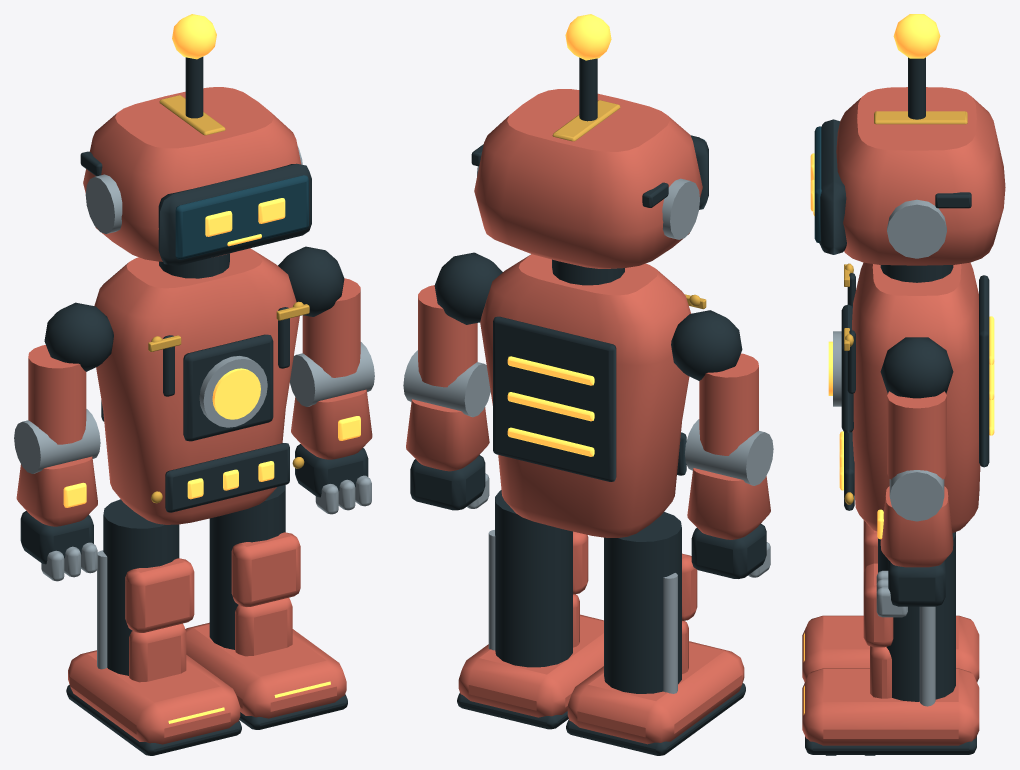
The model's file is rust_scout.glb.
3 views of the same model, side by side, from view 1: azimuth 30°, elevation 25°; view 2: azimuth 150°, elevation 25°; view 3: azimuth 270°, elevation 25° (orthographic). The views are drawn at different scales.
Visible parts, largest first — view 1: Torso.001, Antenna.001, Foot_-1.001, Foot_1.001, Forearm.002, BootSole.002, Forearm.003, BootSole.003, VisorGlass.001, AntennaLight.001, ElbowAxle.002, ElbowAxle.003 (+5 smaller); view 2: Torso.001, Antenna.001, BootSole.002, BootSole.003, Foot_-1.001, Forearm.002, Forearm.003, Foot_1.001, AntennaLight.001, ElbowAxle.002, ElbowAxle.003, PalmGrip.003 (+5 smaller); view 3: Torso.001, Antenna.001, Foot_1.001, Forearm.003, BootSole.003, Foot_-1.001, HelmetAxle.001, ElbowAxle.003, AntennaLight.001, PalmGrip.003, LegPiston.003, ChestID.001 (+1 smaller).
Part boxes in pixels (<box>): Torso.001: <box>83,87,301,524</box>; Antenna.001: <box>44,57,344,512</box>; Foot_-1.001: <box>68,558,240,744</box>; Foot_1.001: <box>185,532,346,718</box>; Forearm.002: <box>16,345,97,526</box>; BootSole.002: <box>66,499,241,755</box>; Forearm.003: <box>291,278,372,459</box>; BootSole.003: <box>209,485,347,729</box>; VisorGlass.001: <box>175,175,308,259</box>; AntennaLight.001: <box>172,14,285,499</box>; ElbowAxle.002: <box>14,409,100,581</box>; ElbowAxle.003: <box>289,342,374,514</box>; Torso.001: <box>474,89,702,537</box>; Antenna.001: <box>434,57,742,481</box>; BootSole.002: <box>566,512,745,755</box>; BootSole.003: <box>457,490,572,729</box>; Foot_-1.001: <box>567,553,744,744</box>; Forearm.002: <box>687,353,770,539</box>; Forearm.003: <box>406,285,489,471</box>; Foot_1.001: <box>458,531,603,717</box>; AntennaLight.001: <box>507,14,611,456</box>; ElbowAxle.002: <box>685,419,773,577</box>; ElbowAxle.003: <box>403,350,490,508</box>; PalmGrip.003: <box>410,455,485,510</box>; Torso.001: <box>836,87,1005,532</box>; Antenna.001: <box>819,57,989,510</box>; Foot_1.001: <box>802,563,979,745</box>; Forearm.003: <box>880,391,953,567</box>; BootSole.003: <box>805,532,976,754</box>; Foot_-1.001: <box>802,520,979,682</box>; HelmetAxle.001: <box>833,199,946,406</box>; ElbowAxle.003: <box>876,470,944,617</box>; AntennaLight.001: <box>810,14,994,490</box>; PalmGrip.003: <box>888,560,945,606</box>; LegPiston.003: <box>825,606,935,755</box>; ChestID.001: <box>844,111,967,504</box>.
Bounding box in the file's own units: 1.52 × 2.95 × 0.78.
